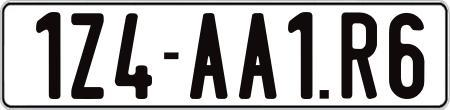1: (285, 12, 314, 102), (34, 9, 61, 101)
4: (112, 10, 153, 102)
6: (387, 11, 423, 103)
A: (187, 10, 227, 98), (239, 10, 277, 101)
R: (339, 11, 379, 103)
Z: (70, 10, 109, 102)
